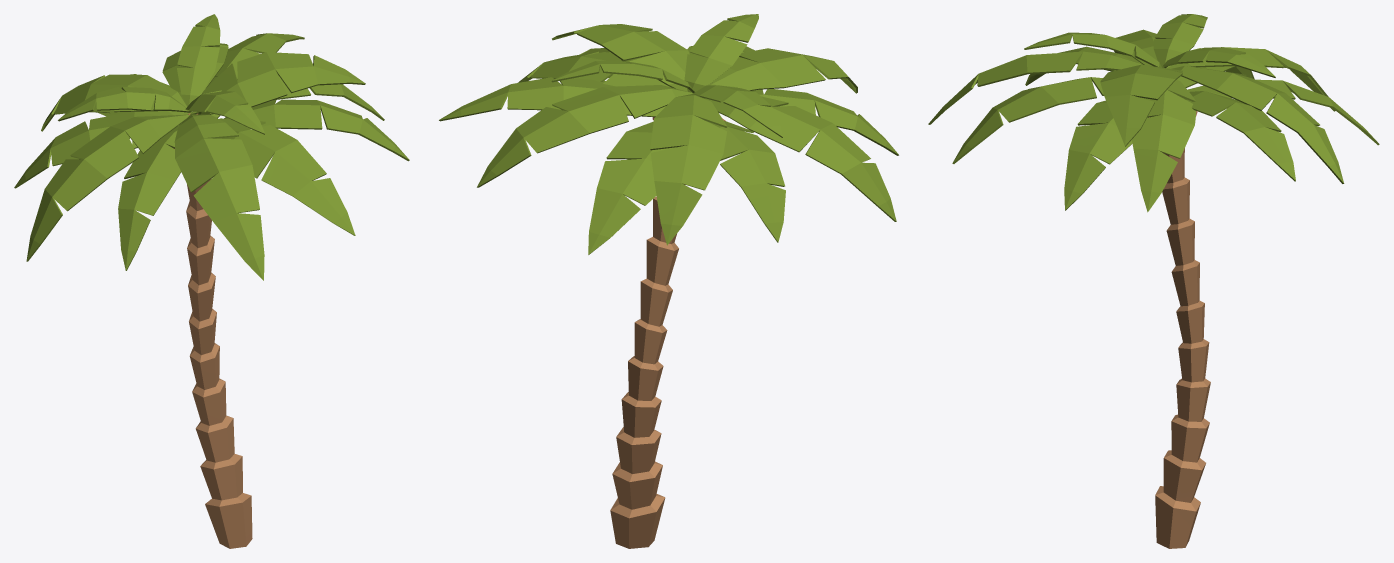
File: Palm_3.fbx
3 views of the same model, side by side, from view 1: azimuth 30°, elevation 25°; view 2: azimuth 150°, elevation 25°; view 3: azimuth 270°, elevation 25° (orthographic). The views are drawn at different scales.
Parts seen in each view (by area): view 1: Palm_3.001; view 2: Palm_3.001; view 3: Palm_3.001.
Part boxes in pixels (left/top/right/bottom): Palm_3.001: left=14, top=14, right=409, bottom=548; Palm_3.001: left=439, top=14, right=898, bottom=548; Palm_3.001: left=928, top=14, right=1379, bottom=548.
Size of the model in its own units: 3.85 by 4.89 by 4.1.
